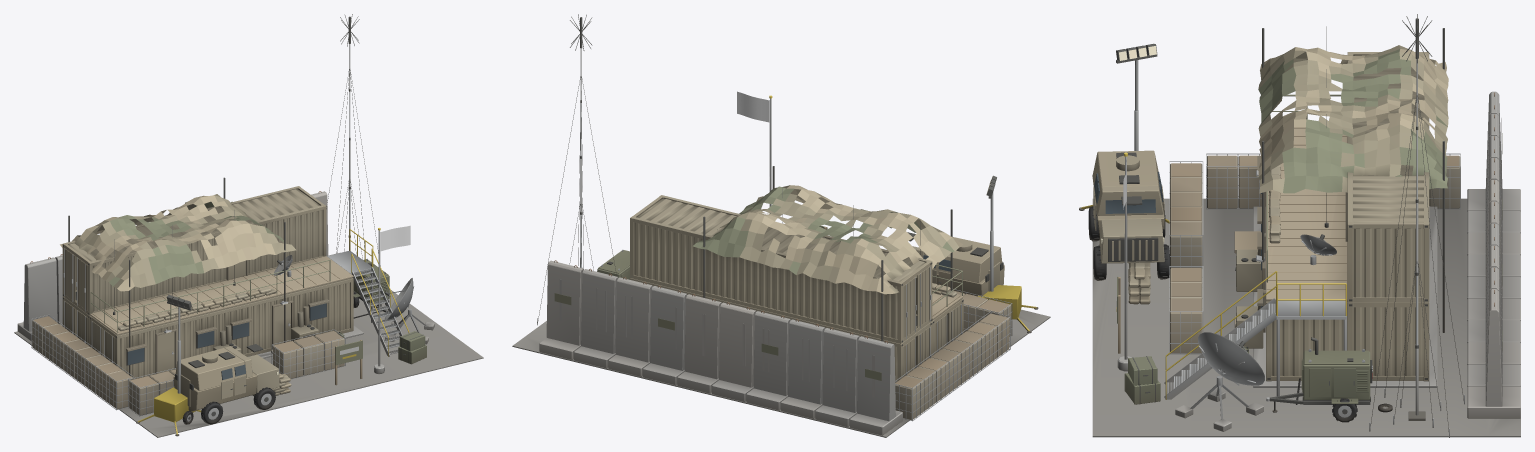
The model's file is struct_hq_usa.glb.
3 renders of one model, left to right at view 1: azimuth 30°, elevation 25°; view 2: azimuth 150°, elevation 25°; view 3: azimuth 270°, elevation 25°, orthographic. The views are drawn at different scales.
Visible parts, largest first — view 1: struct_hq_usa; view 2: struct_hq_usa; view 3: struct_hq_usa.
Part boxes in pixels (x1,y1,x2,y2): struct_hq_usa: (14,14,483,437); struct_hq_usa: (512,14,1050,437); struct_hq_usa: (1079,14,1520,437).
Size of the model in its own units: 17.09 by 13.23 by 13.2.
